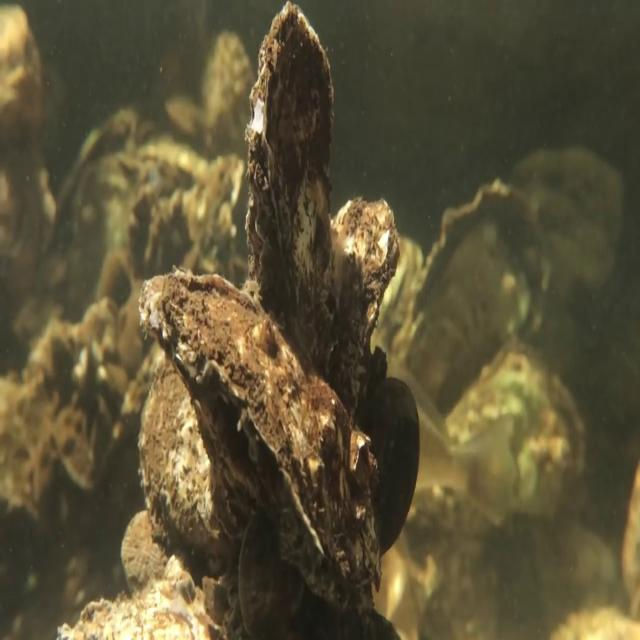Oyster-Closed: (136, 257, 385, 601), (242, 2, 349, 390), (334, 184, 404, 421)
Oyster-Indeterminate: (416, 328, 595, 539), (131, 363, 275, 576)
